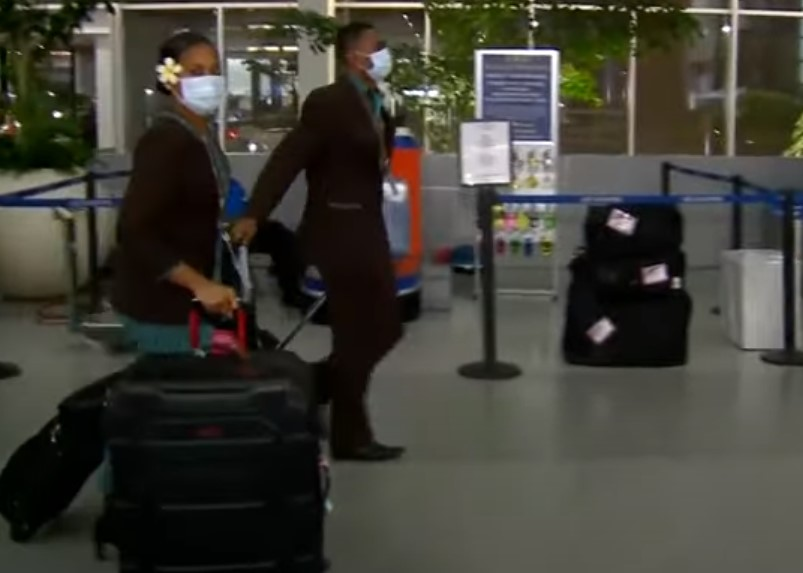face_with_mask: (156, 34, 229, 120), (341, 25, 393, 83)
